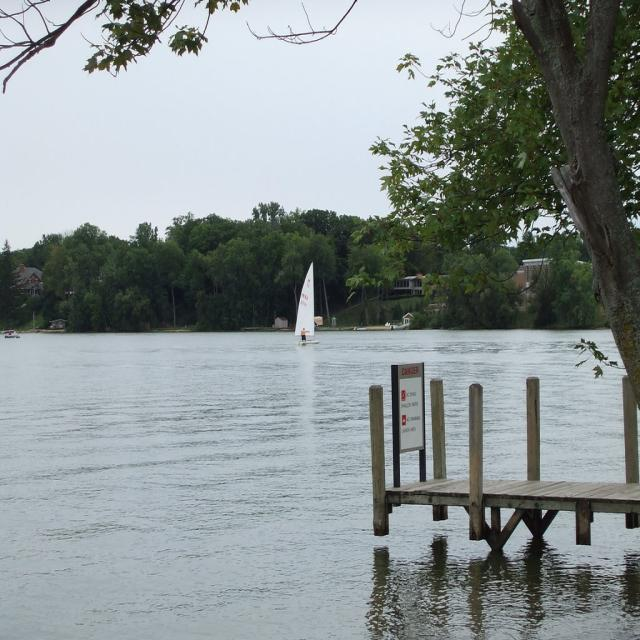Boat: (292, 261, 321, 345)
